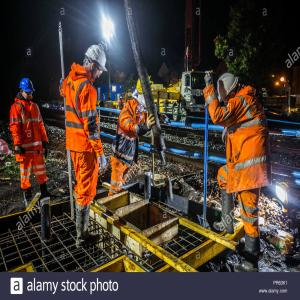blue: (19, 79, 35, 103)
white: (217, 72, 241, 107), (84, 45, 108, 80), (133, 89, 148, 115)
